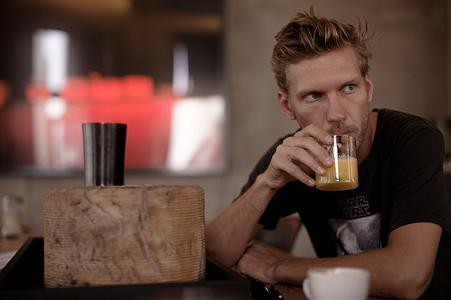person: (205, 14, 451, 300)
